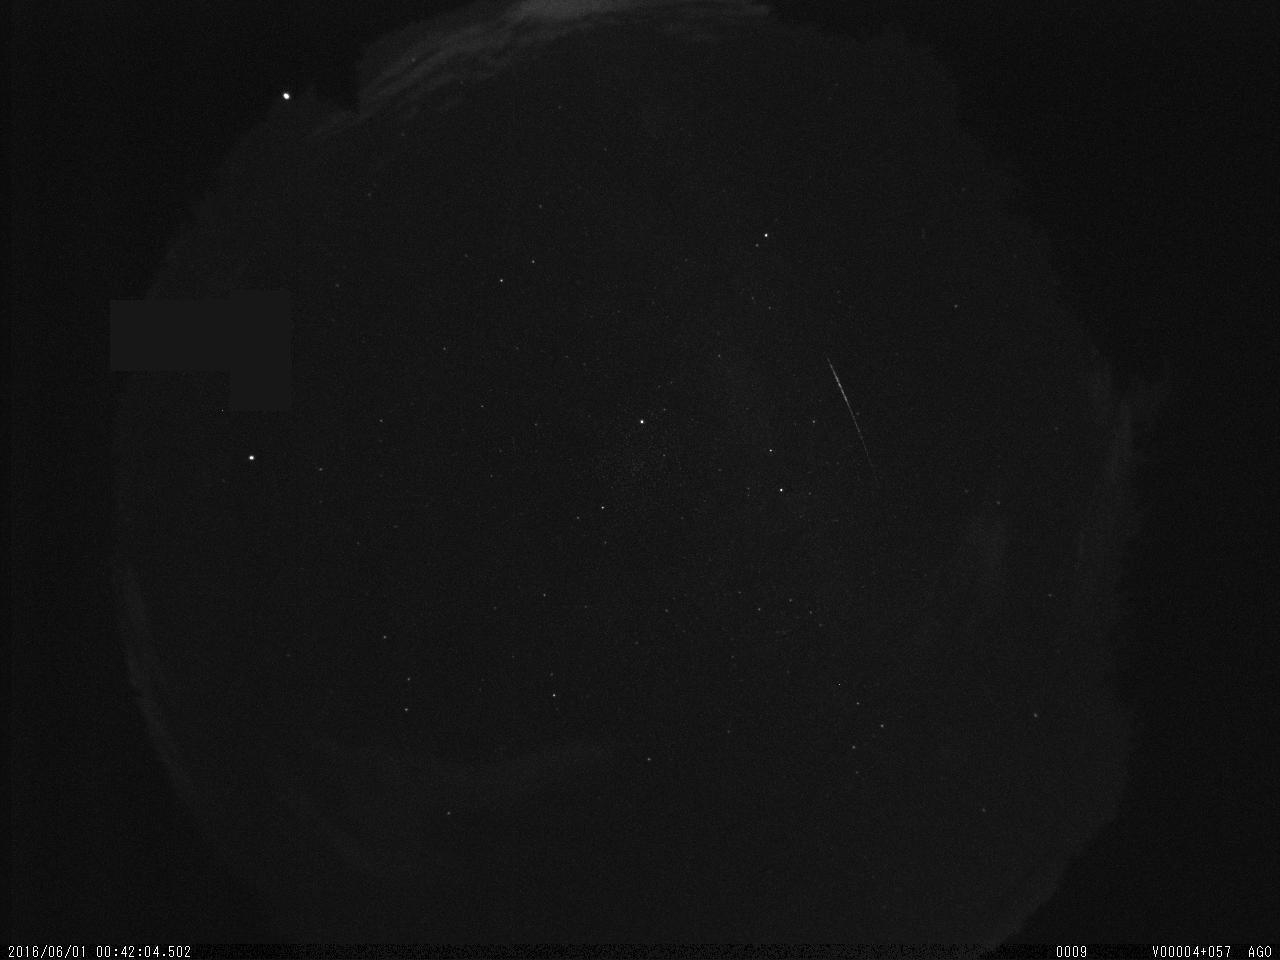Meteor: (819, 351, 880, 476)
